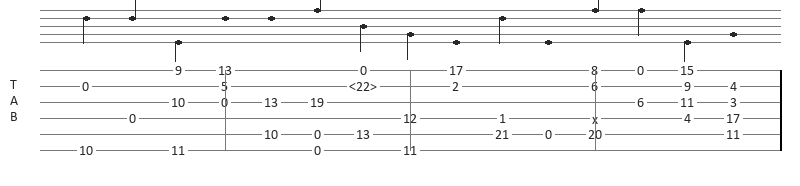0: (82, 80, 93, 93), (129, 112, 140, 125), (221, 96, 232, 109), (314, 144, 325, 157), (314, 128, 325, 141), (360, 64, 371, 77), (545, 128, 556, 141), (637, 64, 648, 77)
1: (499, 112, 510, 125)
10: (79, 144, 97, 157), (171, 96, 189, 109), (264, 128, 282, 141)
11: (171, 144, 189, 157), (403, 144, 421, 157), (680, 96, 698, 109), (726, 128, 744, 141)
12: (403, 112, 421, 125)
13: (218, 64, 236, 77), (264, 96, 282, 109), (356, 128, 374, 141)
15: (680, 64, 698, 77)
17: (449, 64, 467, 77), (726, 112, 744, 125)
19: (310, 96, 328, 109)
2: (452, 80, 463, 93)
20: (588, 128, 606, 141)
21: (495, 128, 513, 141)
3: (730, 96, 741, 109)
4: (684, 112, 695, 125), (730, 80, 741, 93)
5: (221, 80, 232, 93)
6: (591, 80, 602, 93), (637, 96, 648, 109)
8: (591, 64, 602, 77)
9: (175, 64, 186, 77), (684, 80, 695, 93)
harmonic: (349, 80, 381, 93)
x: (592, 113, 602, 124)
